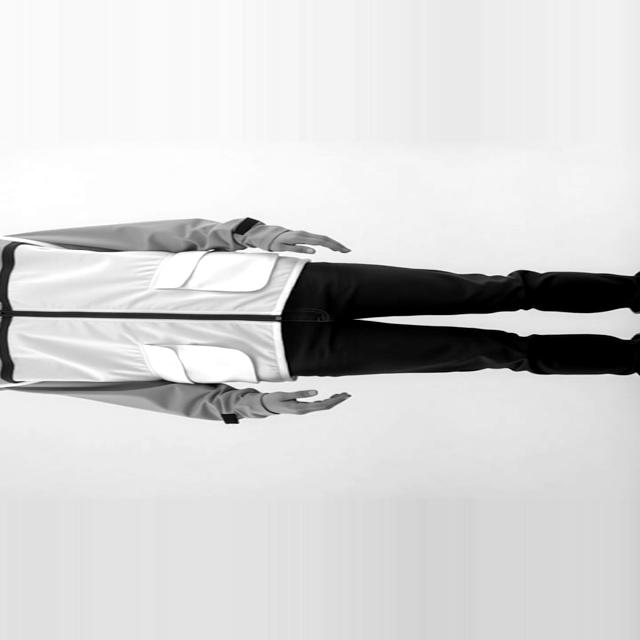Vest: (3, 248, 290, 384)
